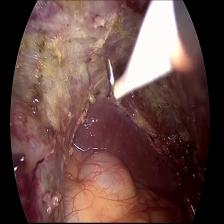Hook: (93, 7, 174, 101)
